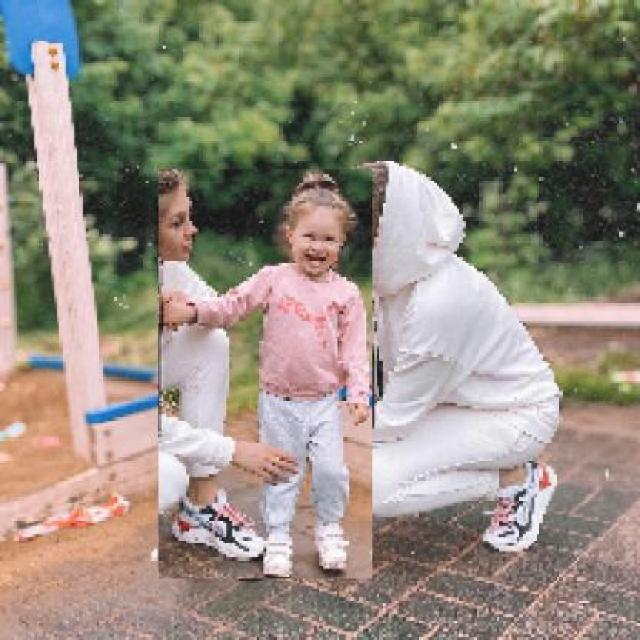child: (157, 169, 372, 580)
